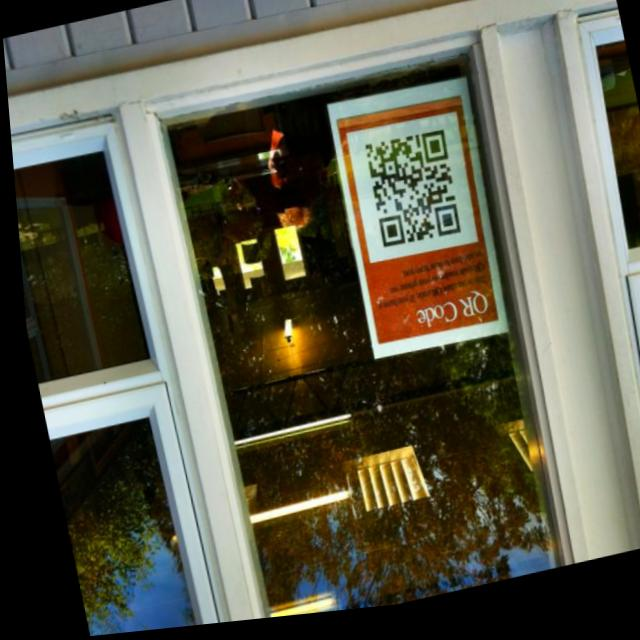qrcode: (360, 137, 460, 259)
